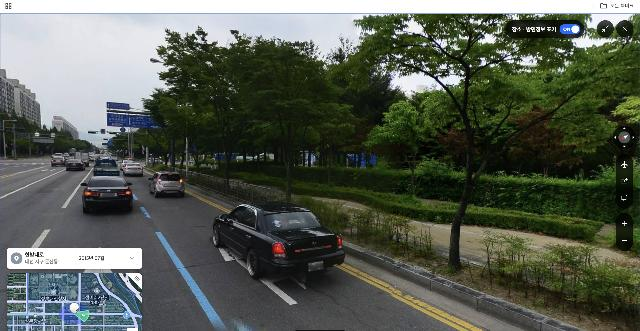other: (343, 13, 609, 274), (145, 25, 339, 203), (144, 29, 266, 188), (534, 41, 640, 185), (360, 98, 446, 201)
